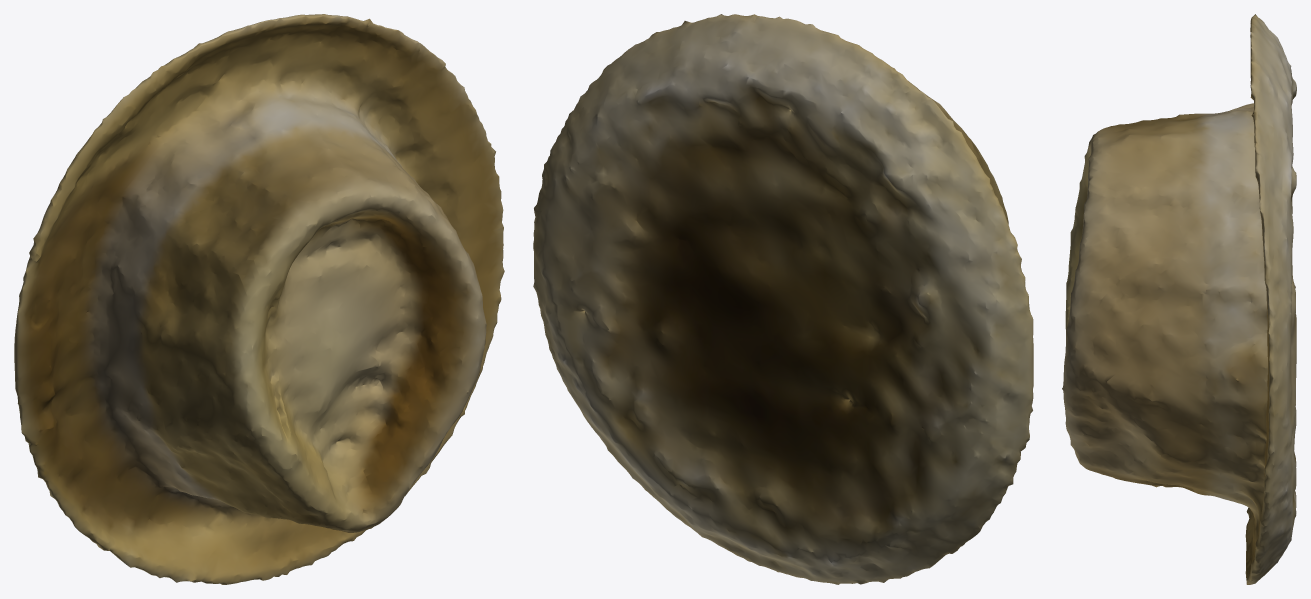
The model's file is hat.glb.
The picture shows the model from 3 angles, left to right: view 1: azimuth 30°, elevation 25°; view 2: azimuth 150°, elevation 25°; view 3: azimuth 270°, elevation 25°; orthographic projection. The views are drawn at different scales.
Size of the model in its own units: 0.9209 by 0.9952 by 0.406.
